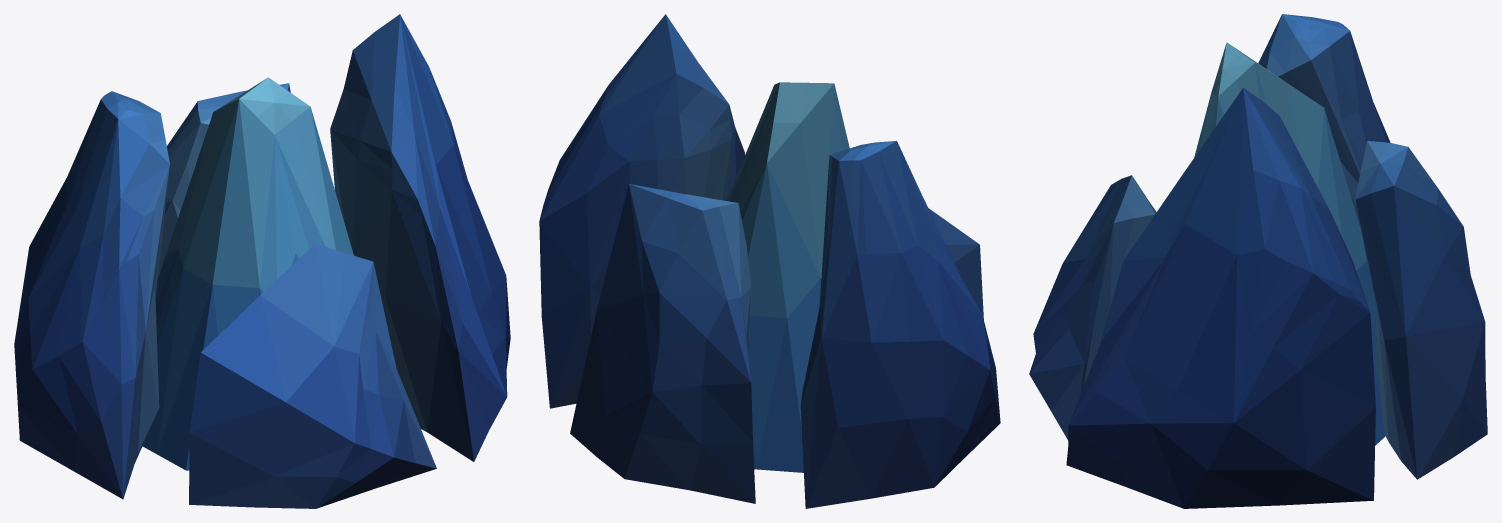
File: Plasma_Vein.glb
The picture shows the model from 3 angles, left to right: view 1: azimuth 30°, elevation 25°; view 2: azimuth 150°, elevation 25°; view 3: azimuth 270°, elevation 25°; orthographic projection. The views are drawn at different scales.
Visible parts, largest first — view 1: Plasma_Vein; view 2: Plasma_Vein; view 3: Plasma_Vein.
Boxes of the visible parts, bbox=[...] form: Plasma_Vein: bbox=[14, 14, 510, 508]; Plasma_Vein: bbox=[539, 14, 1000, 508]; Plasma_Vein: bbox=[1029, 14, 1487, 508].
Size of the model in its own units: 3.02 by 2.41 by 2.6.
